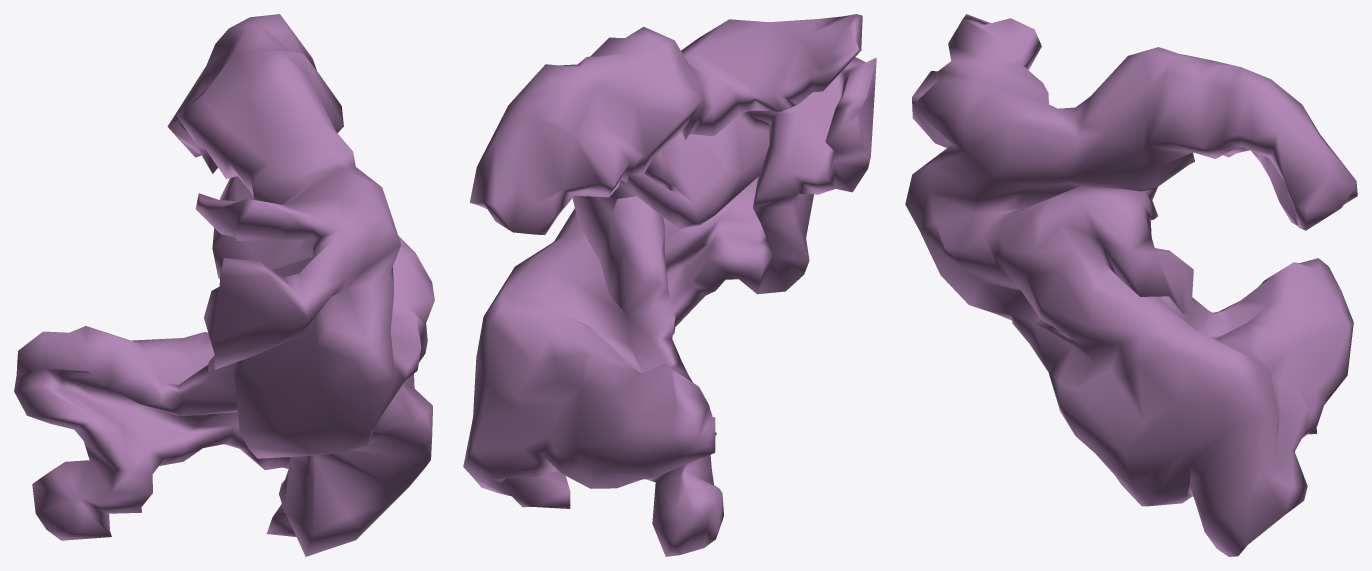
The picture shows the model from 3 angles, left to right: view 1: azimuth 30°, elevation 25°; view 2: azimuth 150°, elevation 25°; view 3: azimuth 270°, elevation 25°; orthographic projection. The views are drawn at different scales.
Visible parts, largest first — view 1: 左侧缘上回; view 2: 左侧缘上回; view 3: 左侧缘上回.
Part boxes in pixels (x1,y1,x2,y2): 左侧缘上回: (14, 14, 434, 556); 左侧缘上回: (463, 14, 876, 556); 左侧缘上回: (905, 14, 1357, 556).
Bounding box in the file's own units: 0.0445 × 0.0722 × 0.0648.
